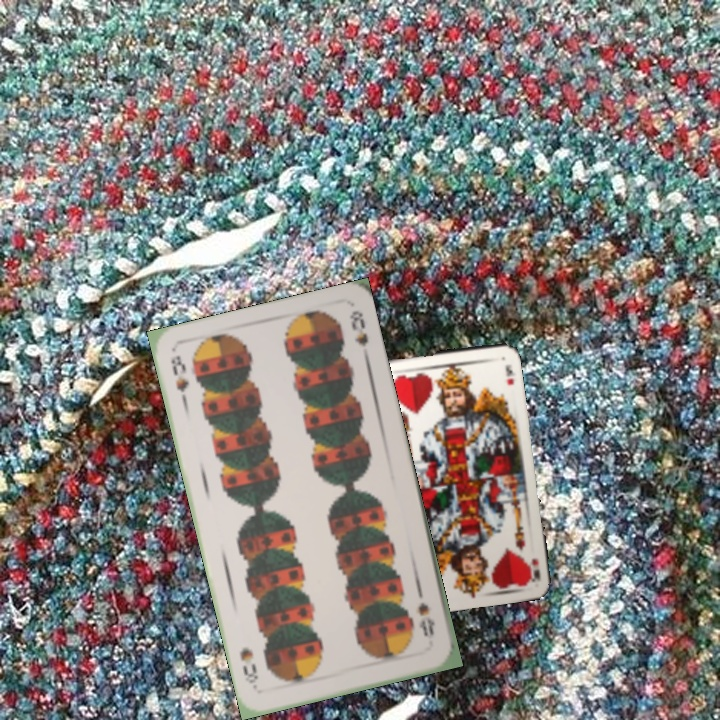HK: (526, 554, 543, 584)
S8: (167, 351, 192, 409), (413, 598, 437, 640)
